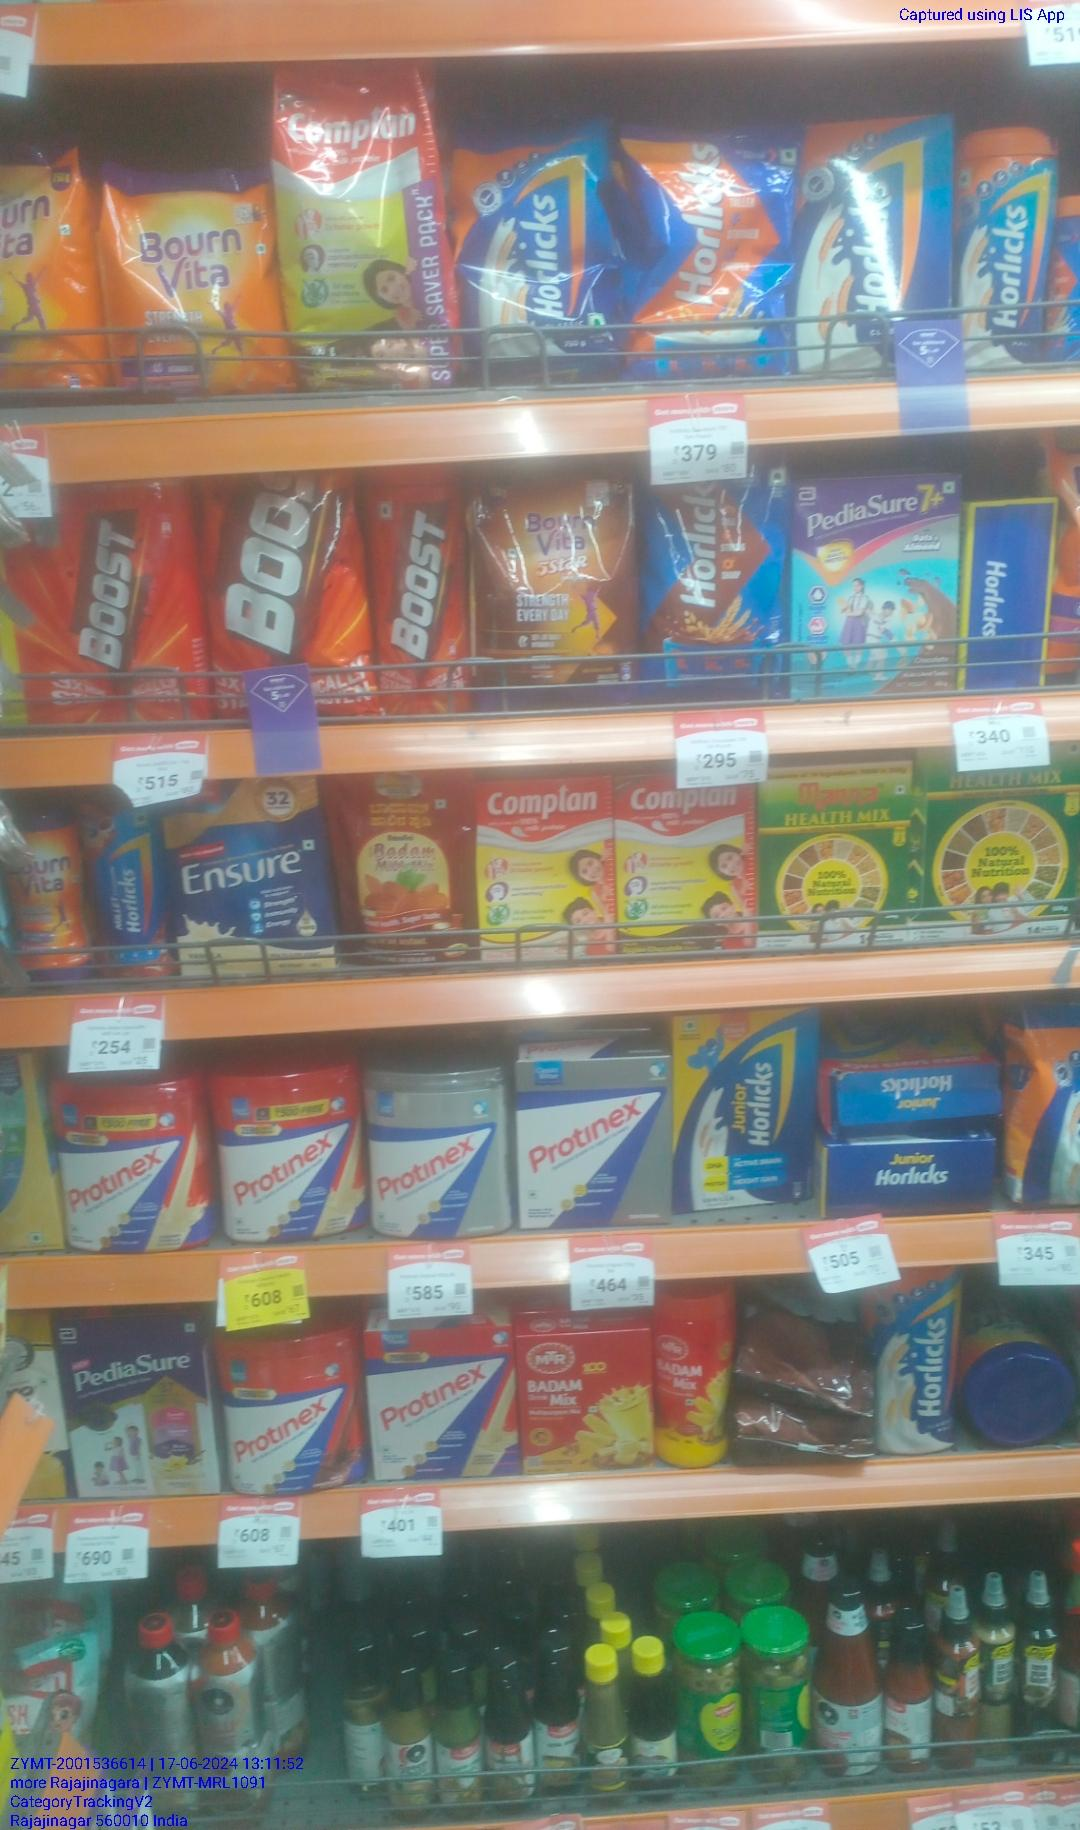COMPLAN_CHOCOLATE_500_GMS_PACK: (516, 1059, 666, 1227)
